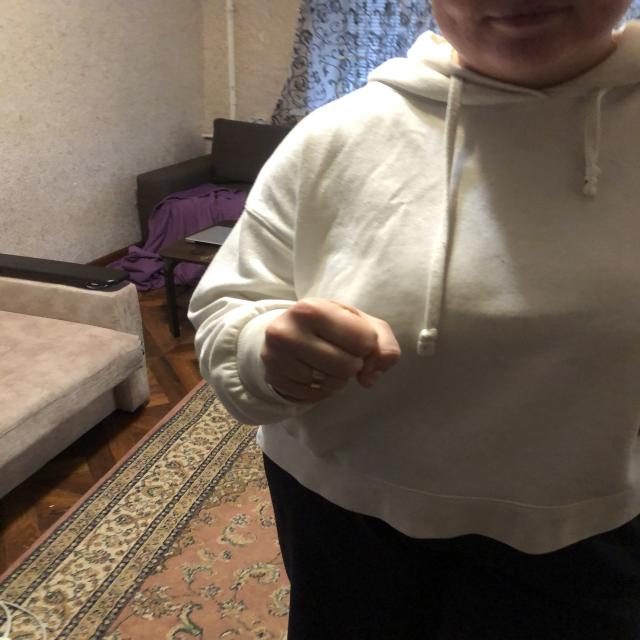rock: (263, 299, 399, 404)
